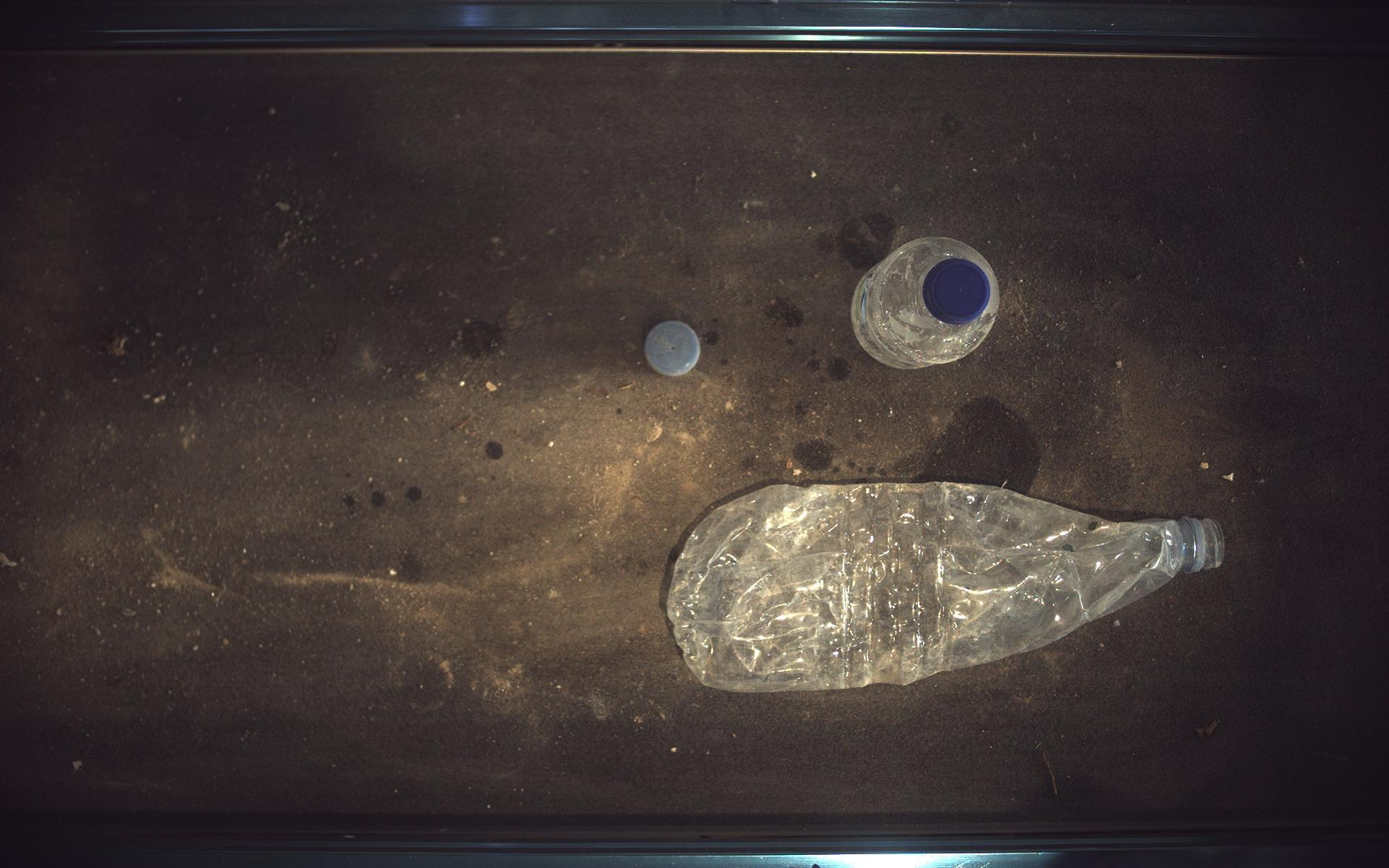general_w: (668, 482, 1228, 693), (853, 237, 1001, 369), (645, 320, 701, 376)
